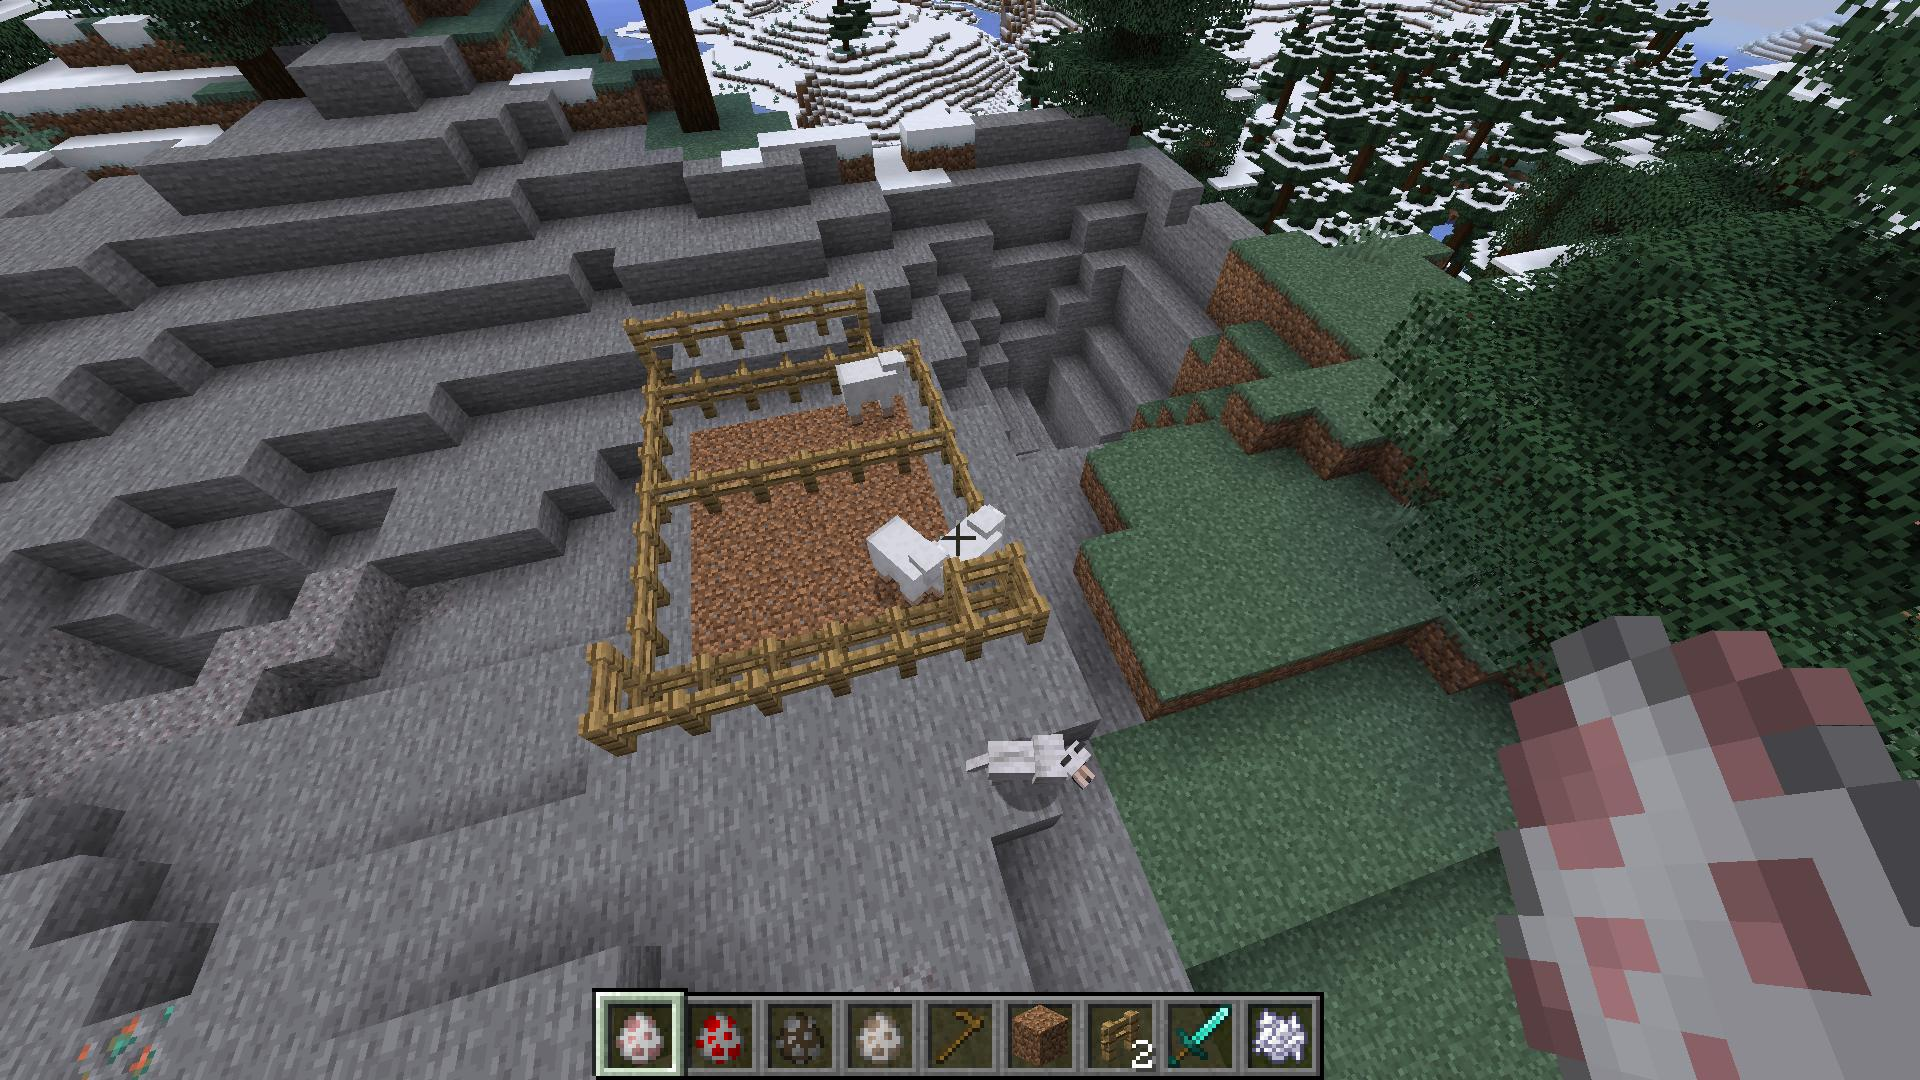sheep: (866, 513, 949, 611), (831, 347, 915, 429), (932, 502, 1018, 578)
wolf: (960, 731, 1101, 793)
